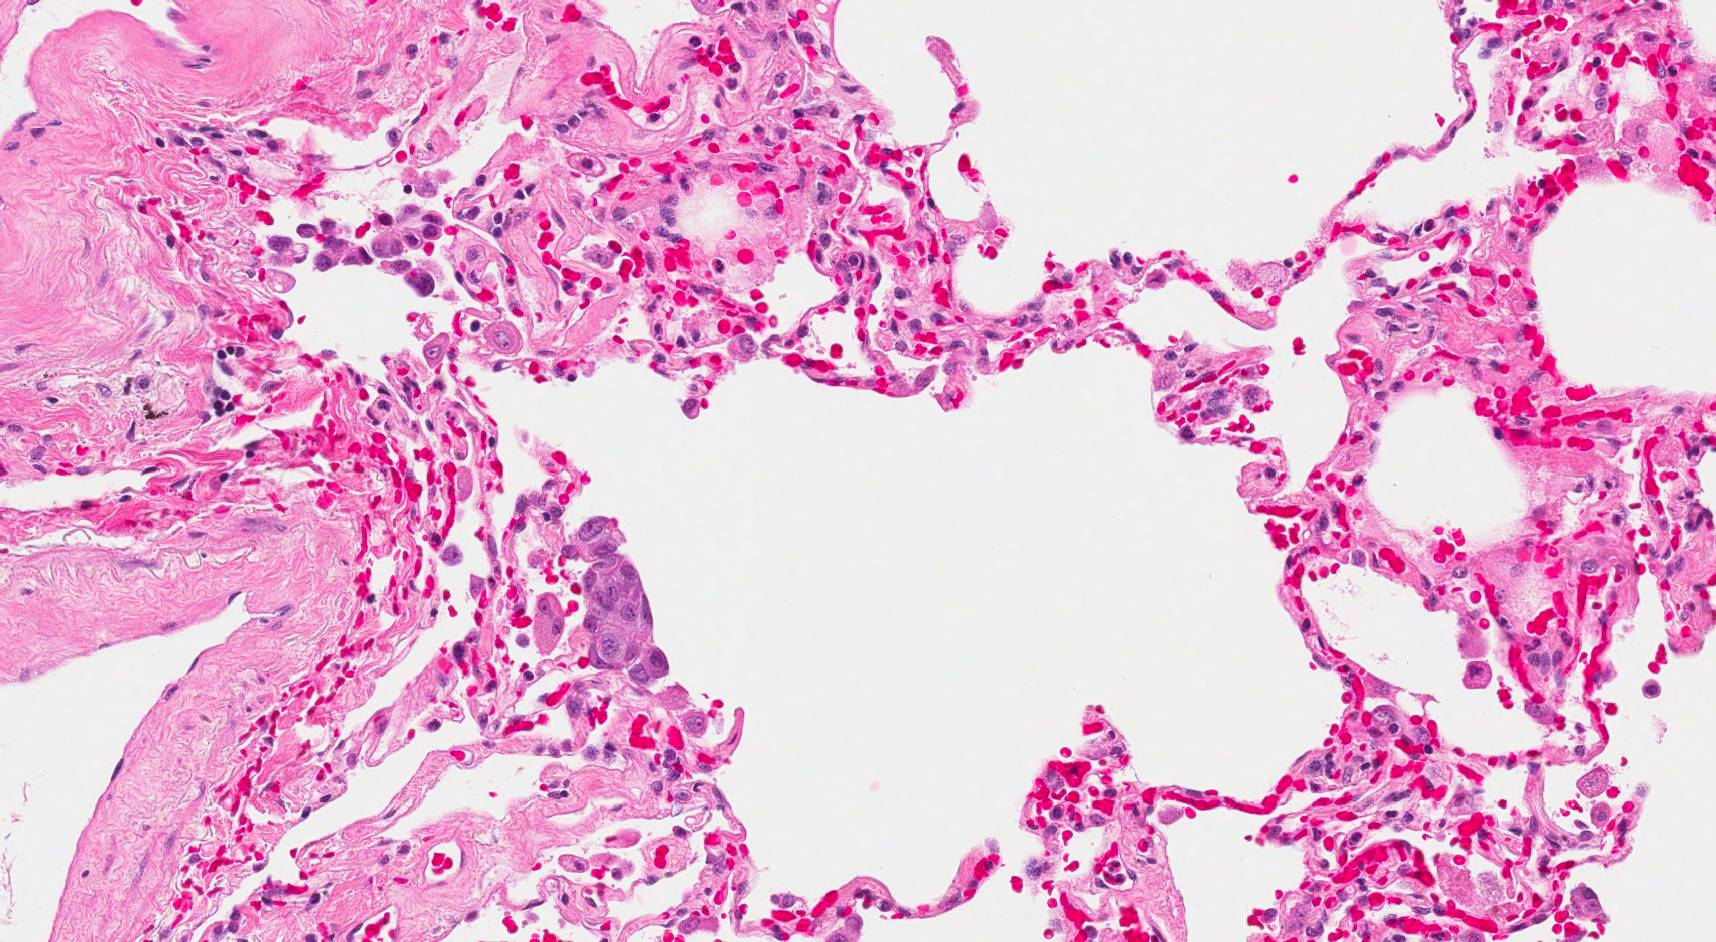stas: (562, 511, 673, 690), (269, 202, 453, 295)
